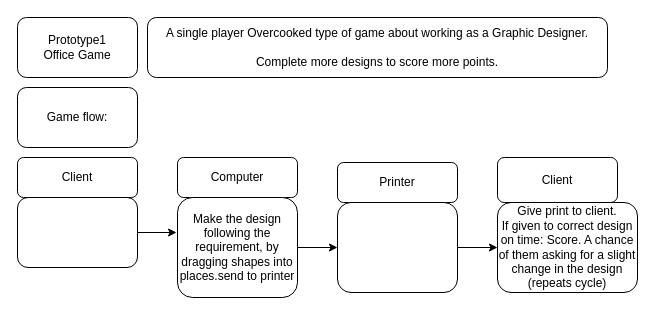
The diagram is 655 pixels wide and 315 high, and some of its shapes have lost their labels. Each missing label, with the centre of its shape:
"Print out the design completed on the computer. (takes a few seconds)" belongs at (x=397, y=247).
"Provides a Design requirements" belongs at (x=77, y=232).
